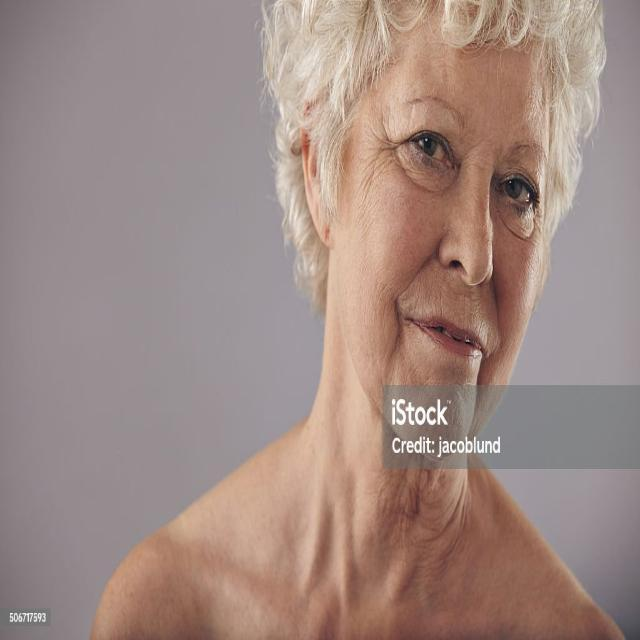dry: (364, 284, 416, 408), (405, 184, 460, 261), (476, 70, 538, 132), (360, 104, 402, 190), (477, 215, 517, 294), (482, 310, 522, 379)
